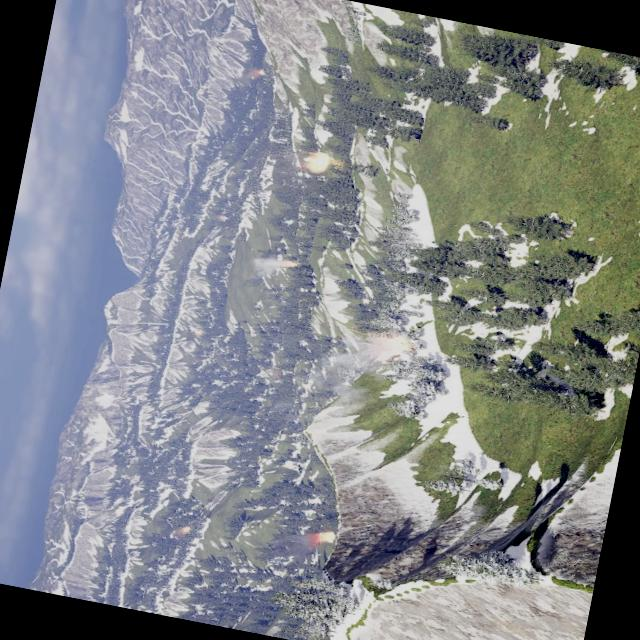fire: (381, 335, 412, 356), (306, 152, 331, 174), (316, 528, 336, 543), (178, 522, 192, 532), (286, 260, 300, 269), (193, 327, 206, 336), (218, 214, 229, 222)
smoke: (325, 332, 388, 387), (247, 253, 285, 277), (290, 532, 318, 560), (281, 146, 312, 170), (232, 64, 262, 82)
